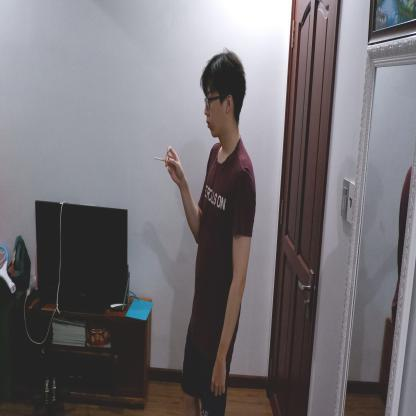cigarette: (154, 156, 166, 164)
person: (163, 49, 259, 415)
